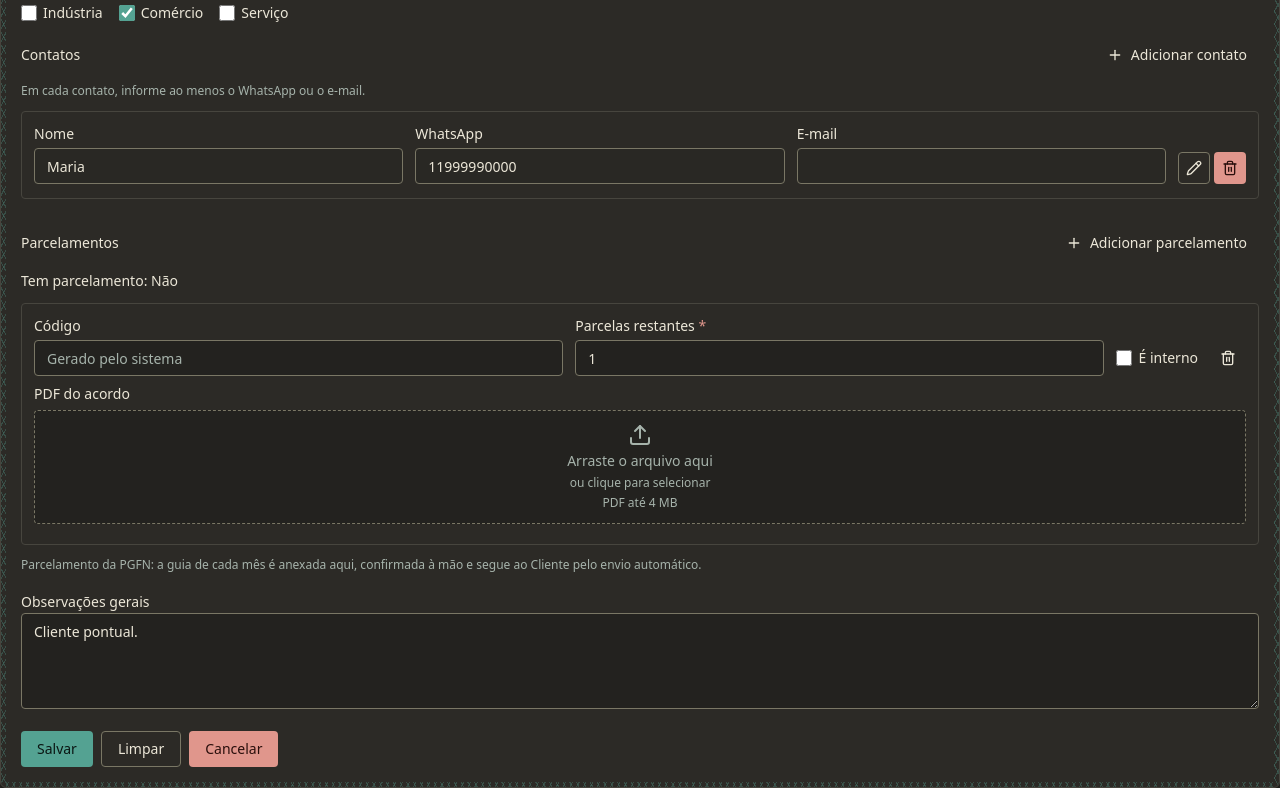
Test: EditarCadastroOperacionalContainer › 'Limpar' desfaz uma edição não salva, voltando ao valor carregado do servidor
The image size is (1280, 788).
(page scrolled)
Replace the text in the text box labelled "Observações gerais" with "Rascunho não salvo." at (640, 661), box x1=21 y1=613 x2=1259 y2=709
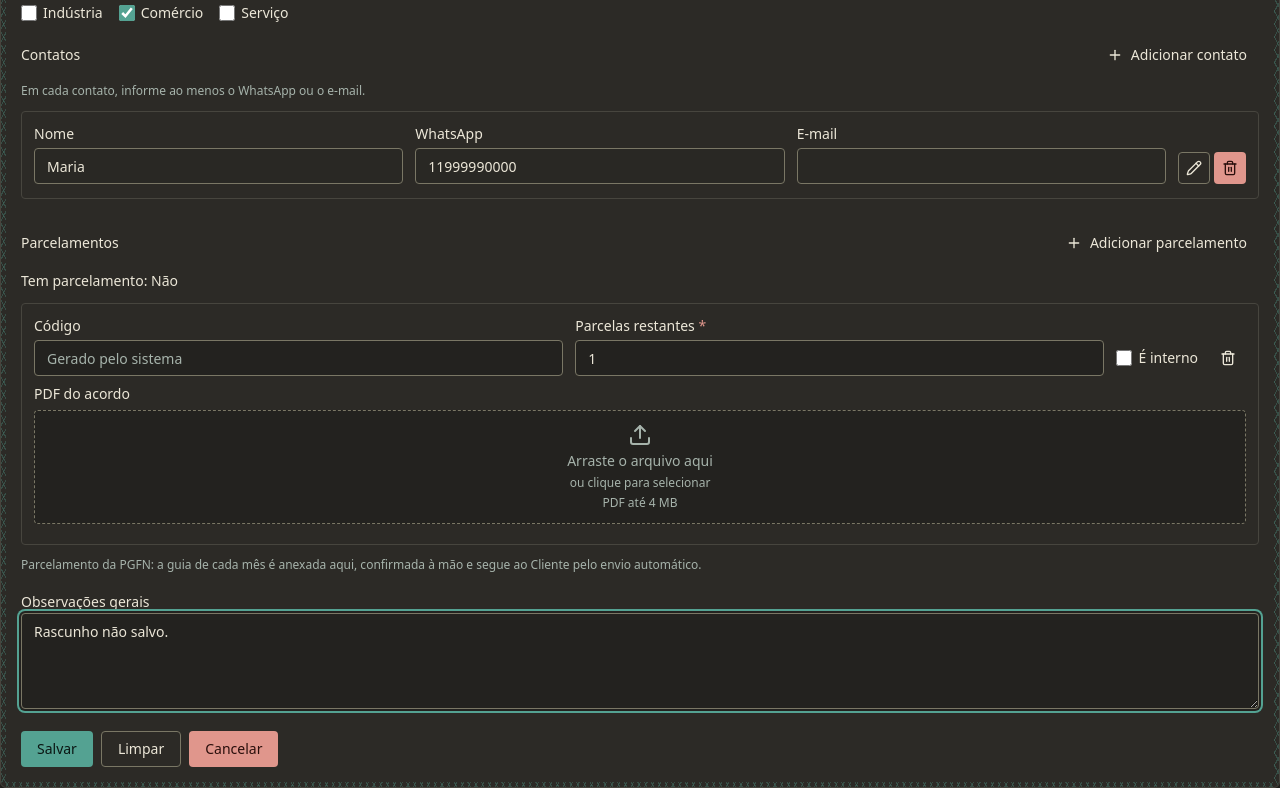
Click the button "Limpar" at (141, 749), box x1=101 y1=731 x2=181 y2=767
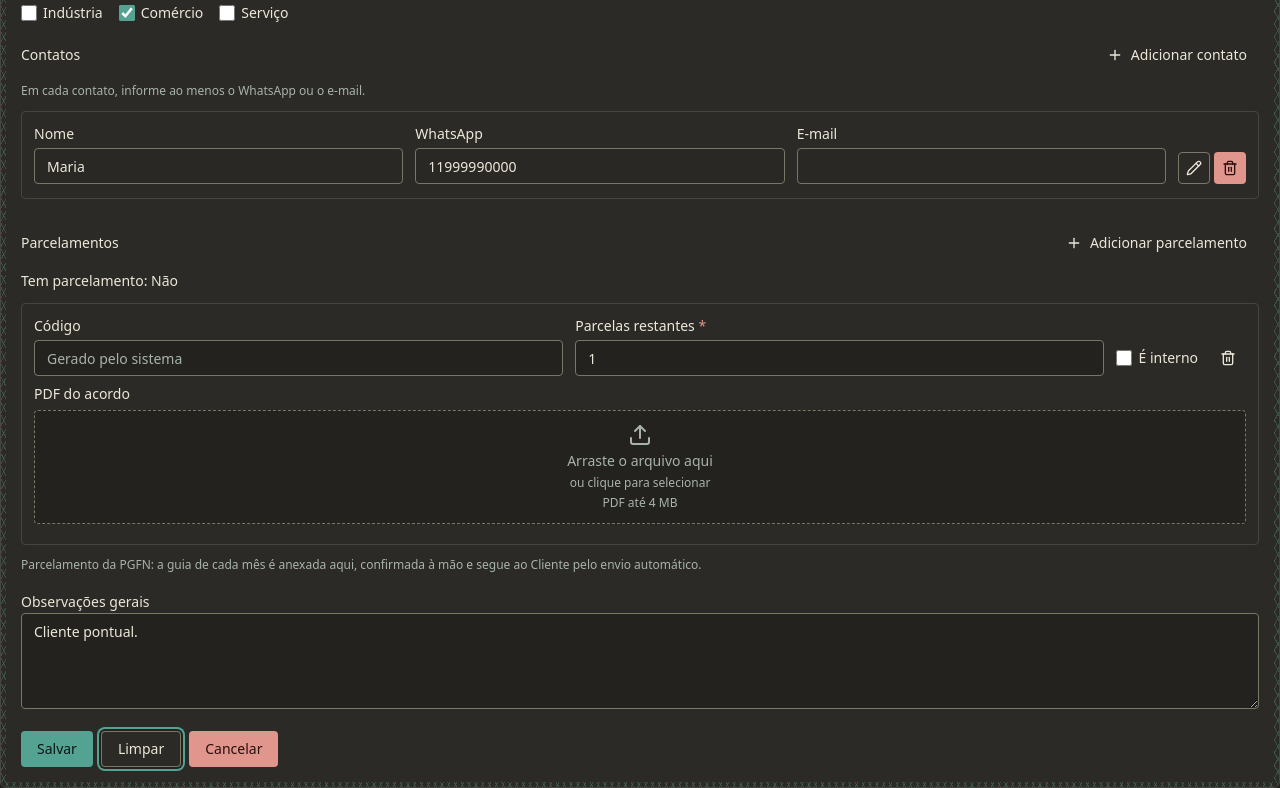
Expected: the text box labelled "Observações gerais" holds "Cliente pontual.", x1=21 y1=613 x2=1259 y2=709
